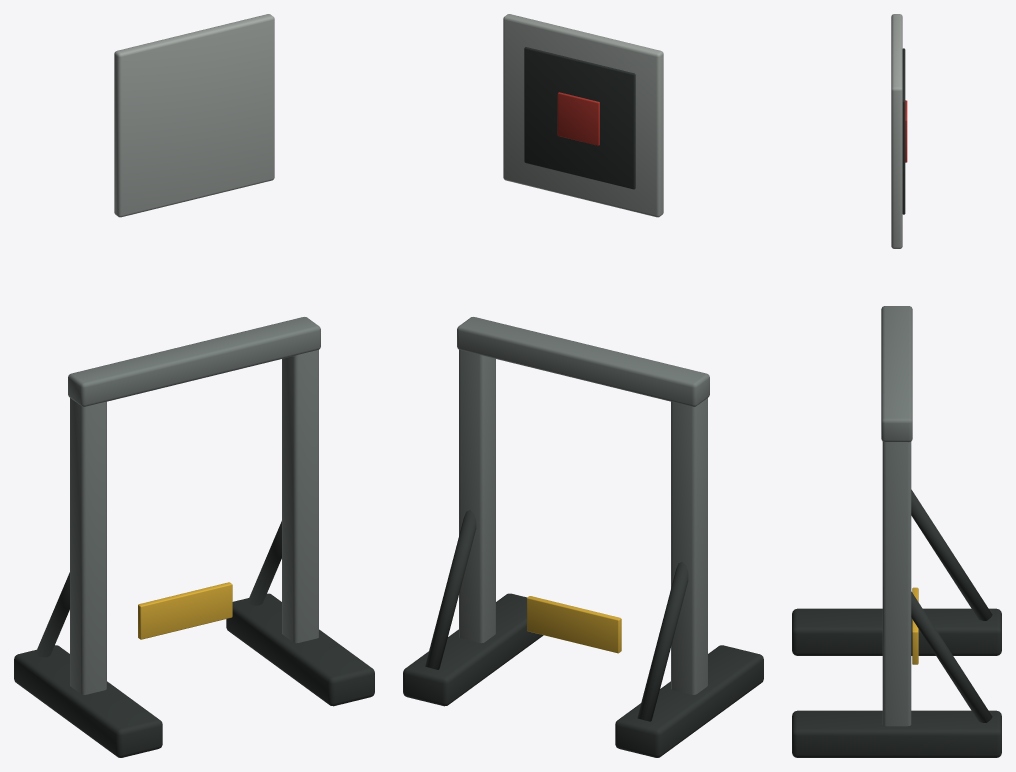
File: range_target_v1.glb
The picture shows the model from 3 angles, left to right: view 1: azimuth 30°, elevation 25°; view 2: azimuth 150°, elevation 25°; view 3: azimuth 270°, elevation 25°; orthographic projection.
Visible parts, largest first — view 1: Target_Plate, Target_Post_-0.46, Target_Post_0.46, Target_Head, Target_Foot_-0.46, Target_Foot_0.46, Target_Plaque, Target_Brace_-0.46, Target_Brace_0.46; view 2: Target_Plate, Target_Ring, Target_Post_-0.46, Target_Post_0.46, Target_Head, Target_Foot_-0.46, Target_Foot_0.46, Target_Plaque, Target_Brace_0.46, Target_Brace_-0.46, Target_Bull; view 3: Target_Foot_0.46, Target_Post_0.46, Target_Foot_-0.46, Target_Head, Target_Plate, Target_Brace_-0.46, Target_Brace_0.46, Target_Ring.
Boxes of the visible parts, box(x1,y1,x2,y2) form: Target_Plate: box(114, 14, 274, 217); Target_Post_-0.46: box(70, 398, 106, 694); Target_Post_0.46: box(282, 350, 318, 643); Target_Head: box(68, 317, 320, 406); Target_Foot_-0.46: box(14, 645, 162, 757); Target_Foot_0.46: box(226, 593, 374, 706); Target_Plaque: box(138, 582, 232, 639); Target_Brace_-0.46: box(36, 572, 69, 657); Target_Brace_0.46: box(248, 521, 281, 605); Target_Plate: box(503, 14, 663, 217); Target_Ring: box(524, 47, 635, 189); Target_Post_-0.46: box(671, 398, 707, 694); Target_Post_0.46: box(459, 350, 495, 643); Target_Head: box(457, 317, 709, 406); Target_Foot_-0.46: box(615, 645, 763, 757); Target_Foot_0.46: box(403, 593, 543, 706); Target_Plaque: box(527, 596, 621, 653); Target_Brace_0.46: box(425, 510, 476, 669); Target_Brace_-0.46: box(637, 562, 688, 721); Target_Bull: box(557, 92, 599, 145); Target_Foot_0.46: box(792, 710, 1001, 757); Target_Post_0.46: box(882, 441, 911, 726); Target_Foot_-0.46: box(792, 608, 1001, 655); Target_Head: box(881, 306, 912, 442); Target_Plate: box(891, 14, 902, 248); Target_Brace_-0.46: box(911, 489, 992, 620); Target_Brace_0.46: box(911, 591, 992, 722); Target_Ring: box(902, 48, 905, 214).
Bounding box in the file's own units: 1.12 × 2.72 × 0.8.
